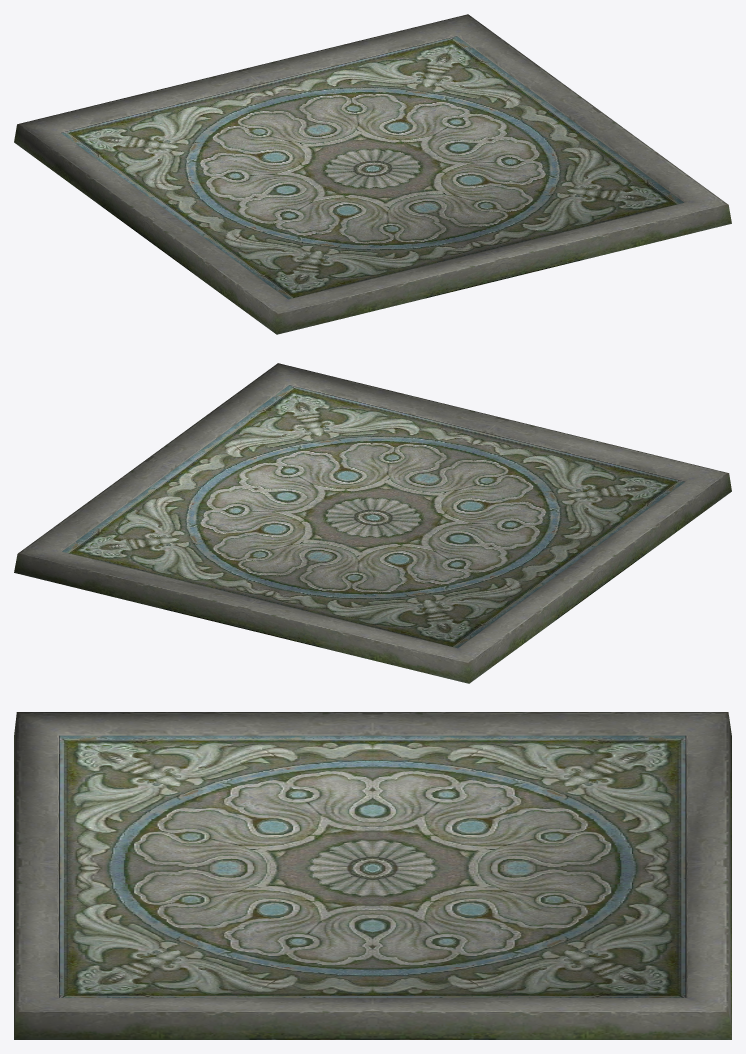
Rendered from SC001Jwujian_12.FBX.
The picture shows the model from 3 angles, top to bottom: view 1: azimuth 30°, elevation 25°; view 2: azimuth 150°, elevation 25°; view 3: azimuth 270°, elevation 25°; orthographic projection. The views are drawn at different scales.
Parts seen in each view (by area): view 1: SC001Jwujian_12; view 2: SC001Jwujian_12; view 3: SC001Jwujian_12.
Boxes of the visible parts, bbox=[...] form: SC001Jwujian_12: bbox=[14, 14, 731, 334]; SC001Jwujian_12: bbox=[14, 363, 731, 683]; SC001Jwujian_12: bbox=[14, 712, 731, 1039].
Bounding box in the file's own units: 7.96 × 0.3111 × 7.96.
